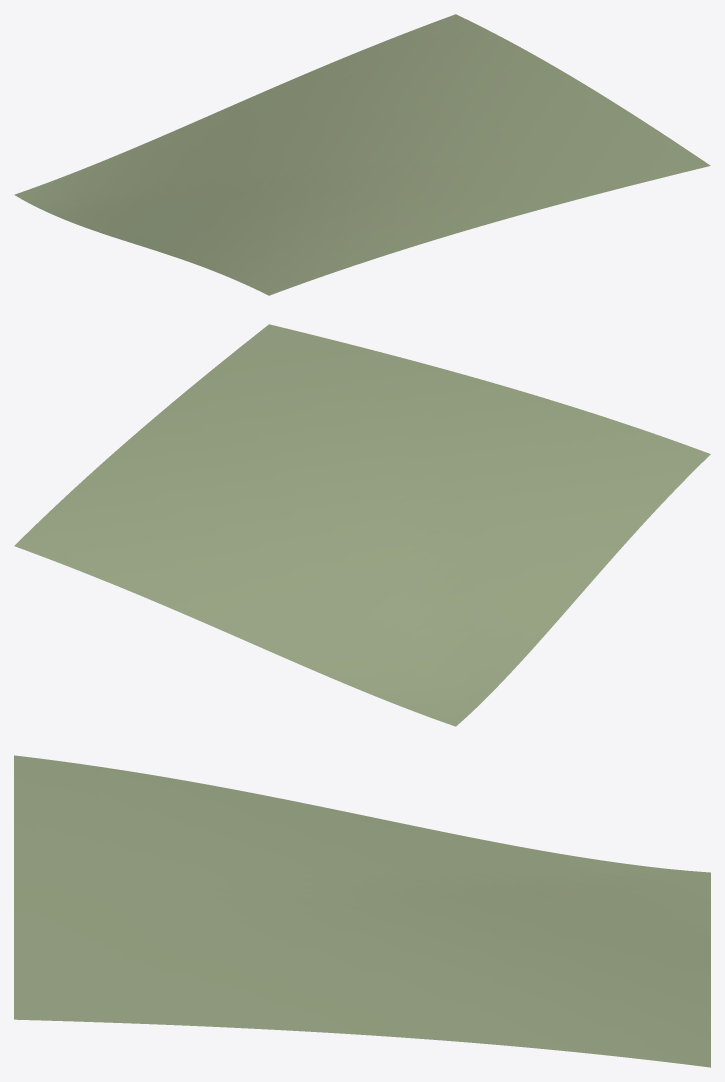
The model's file is expanse-13-20.glb.
3 views of the same model, one above another, from view 1: azimuth 30°, elevation 25°; view 2: azimuth 150°, elevation 25°; view 3: azimuth 270°, elevation 25° (orthographic). The views are drawn at different scales.
Parts seen in each view (by area): view 1: expanse-13-20; view 2: expanse-13-20; view 3: expanse-13-20.
Boxes of the visible parts, box(x1,y1,x2,y2) form: expanse-13-20: box(14, 14, 710, 295); expanse-13-20: box(14, 324, 710, 726); expanse-13-20: box(14, 755, 710, 1067).
Size of the model in its own units: 256 by 59.74 by 256.
